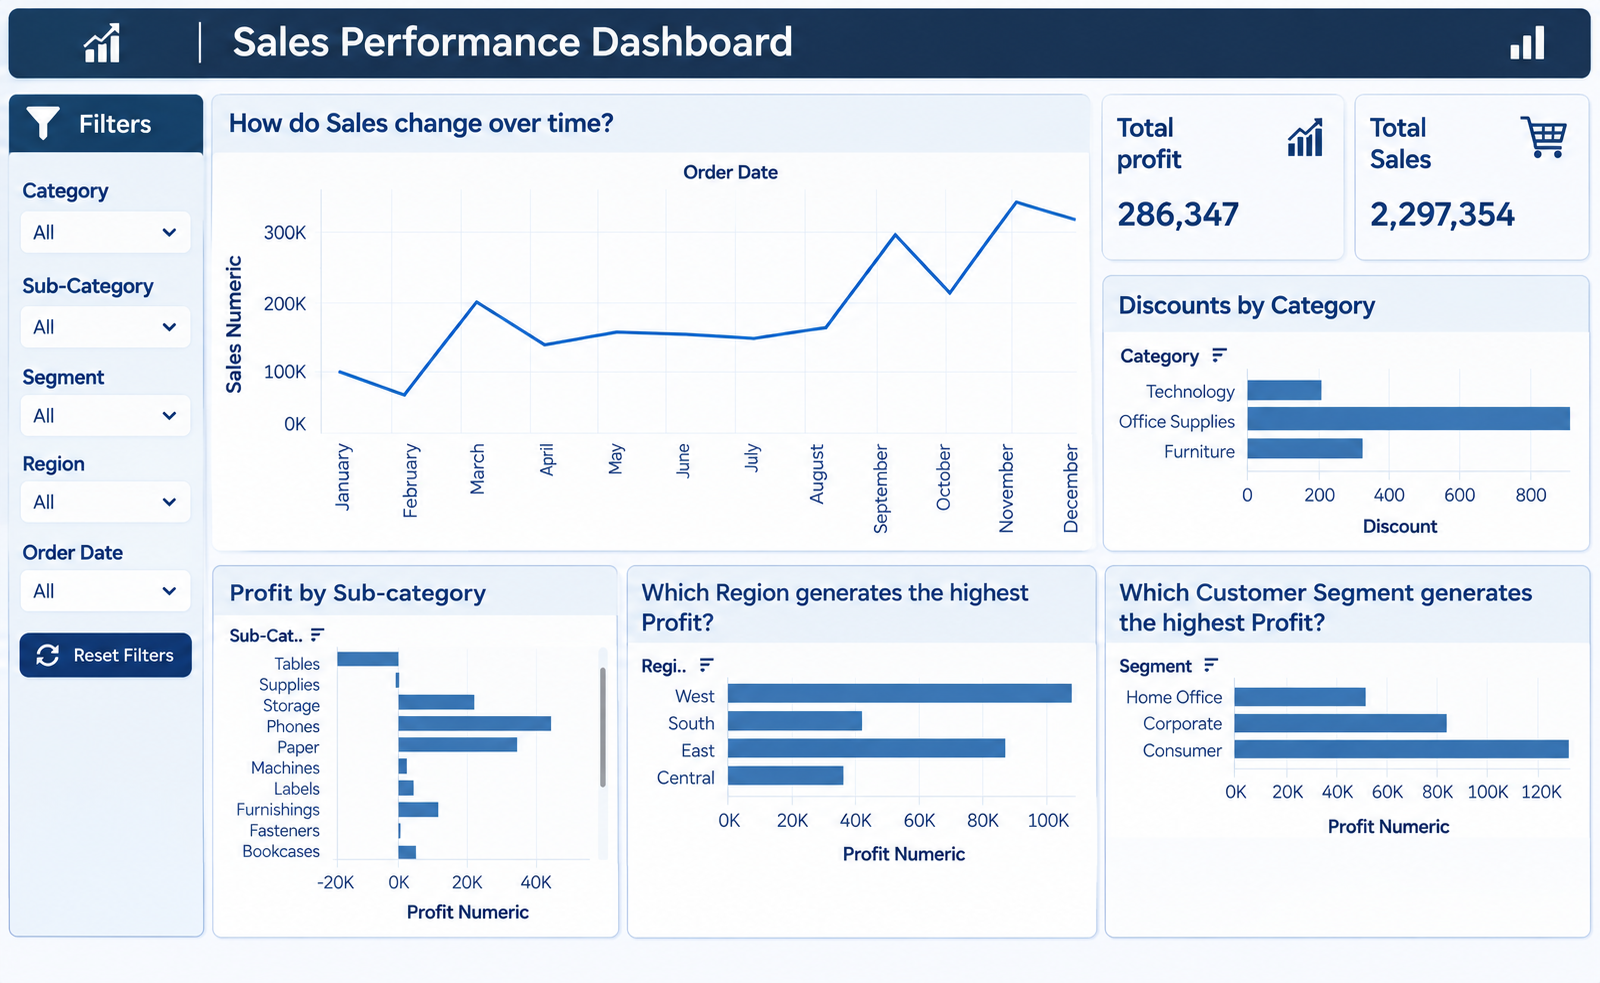

The dashboard page shown, as its layout file describes it:
{"tool":"tableau","page":{"name":"Sales Performace Dahsboard ","canvas":[1000,1000],"units":"permille","ordinal":1},"visuals":[{"type":"title","box":[6.4,9.4,987.3,58.8]},{"type":"worksheet","title":"Sheet 1","mark":"Automatic","box":[6.4,68.2,196.2,455.9]},{"type":"worksheet","title":"Sheet 6","mark":"Automatic","rows":["Calculation_585467997247004673"],"cols":["Order Date"],"box":[202.6,68.2,582,455.9]},{"type":"worksheet","title":"Sheet 2","mark":"Automatic","box":[784.6,68.2,209,455.9]},{"type":"worksheet","title":"Sheet 4","mark":"Automatic","rows":["Sub-Category"],"cols":["Calculation_585467997247004673"],"box":[6.4,524.1,391.3,466.5]},{"type":"worksheet","title":"Sheet 5","mark":"Automatic","rows":["Region"],"cols":["Calculation_585467997247004673"],"box":[397.6,524.1,326.3,466.5]},{"type":"worksheet","title":"Sheet 3","mark":"Automatic","rows":["Category"],"cols":["Calculation_585467997247004673"],"box":[723.9,524.1,269.8,466.5]}]}

Visuals, with their boxes on the dashboard's canvas, which has no fixed pixel size, in thousandths of its width and height (x1, y1, x2, y2). These are canvas units, not pixel positions in the 1600x983 screenshot, which may show the page scaled, cropped or inside an application window:
title: rect(6, 9, 994, 68)
"Sheet 1" worksheet: rect(6, 68, 203, 524)
"Sheet 6" worksheet: rect(203, 68, 785, 524)
"Sheet 2" worksheet: rect(785, 68, 994, 524)
"Sheet 4" worksheet: rect(6, 524, 398, 991)
"Sheet 5" worksheet: rect(398, 524, 724, 991)
"Sheet 3" worksheet: rect(724, 524, 994, 991)
